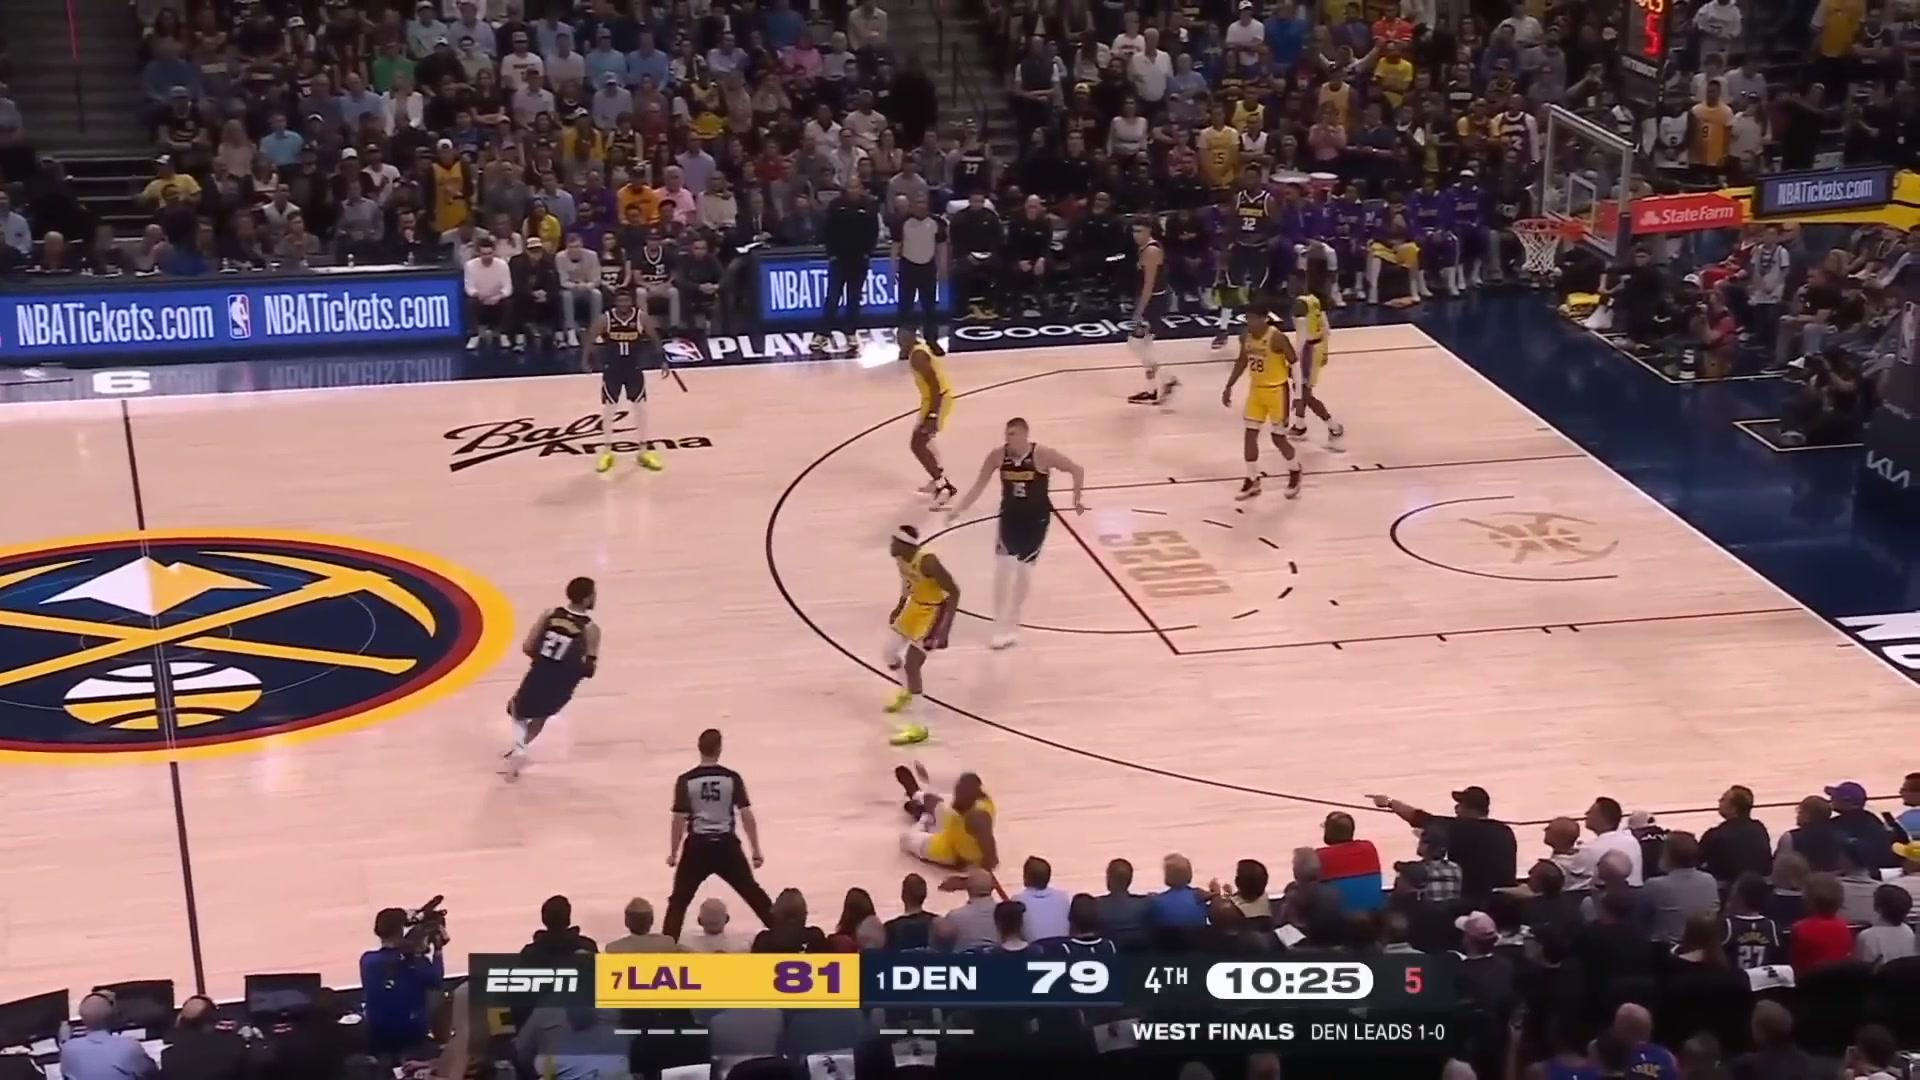no_foul: (872, 411, 1108, 745)
